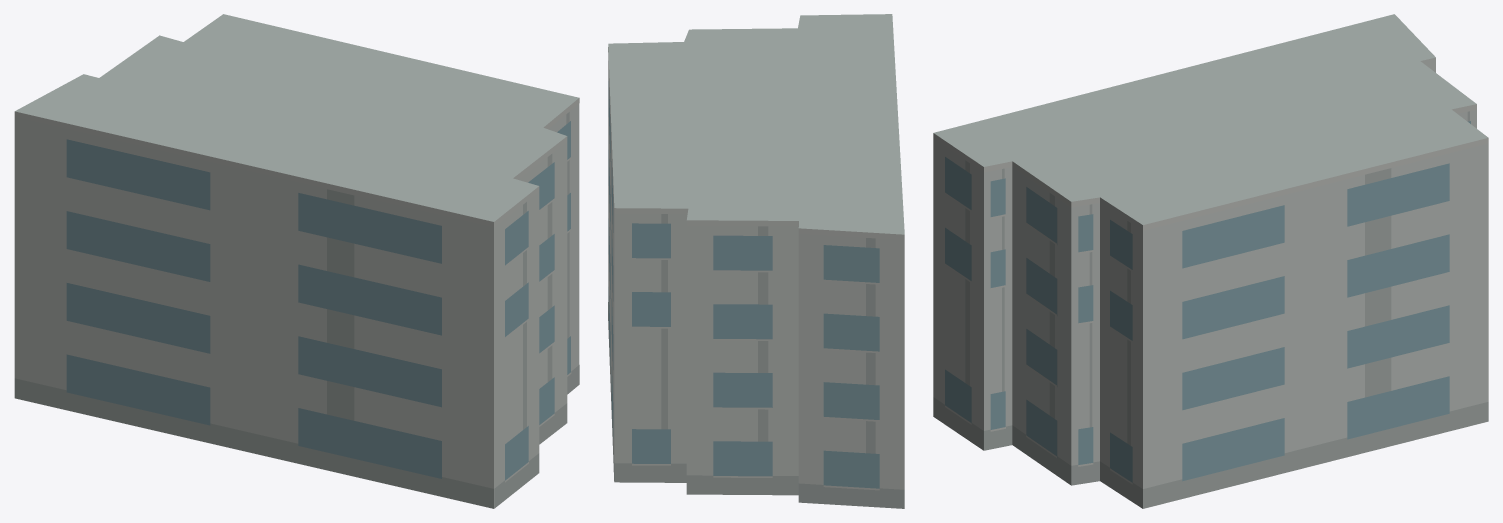
File: residential-39aeff50-50db-417e-8beb-e8b423e60e66.glb
3 views of the same model, side by side, from view 1: azimuth 30°, elevation 25°; view 2: azimuth 150°, elevation 25°; view 3: azimuth 270°, elevation 25° (orthographic). The views are drawn at different scales.
Parts seen in each view (by area): view 1: residential-39aeff50-50db-417e-8beb-e8b423e60e66.tmp; view 2: residential-39aeff50-50db-417e-8beb-e8b423e60e66.tmp; view 3: residential-39aeff50-50db-417e-8beb-e8b423e60e66.tmp.
Part boxes in pixels (bbox=[...]): residential-39aeff50-50db-417e-8beb-e8b423e60e66.tmp: bbox=[14, 14, 579, 508]; residential-39aeff50-50db-417e-8beb-e8b423e60e66.tmp: bbox=[608, 14, 904, 508]; residential-39aeff50-50db-417e-8beb-e8b423e60e66.tmp: bbox=[933, 14, 1488, 508].
Size of the model in its own units: 19.48 by 12.2 by 21.65.
